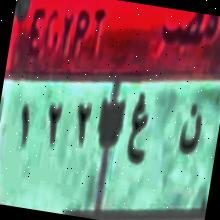2: (68, 96, 98, 156), (12, 92, 40, 156), (39, 95, 66, 151)
ghayn: (120, 82, 155, 171)
noon: (174, 94, 208, 166)
